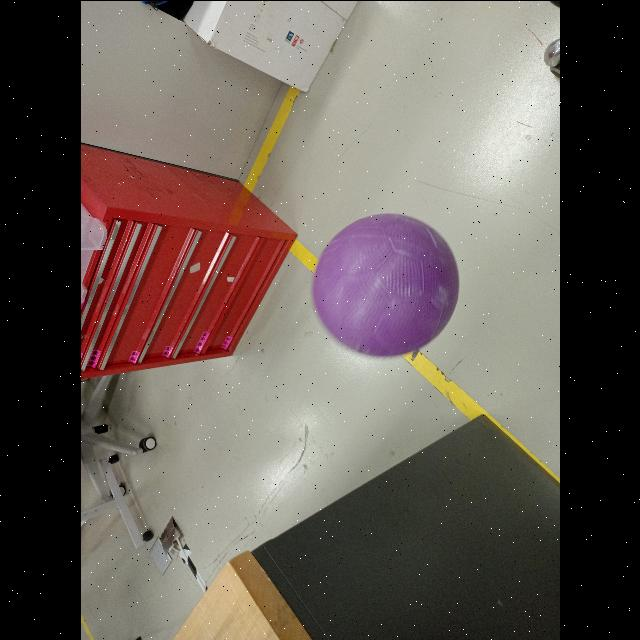P: (312, 212, 461, 356)
